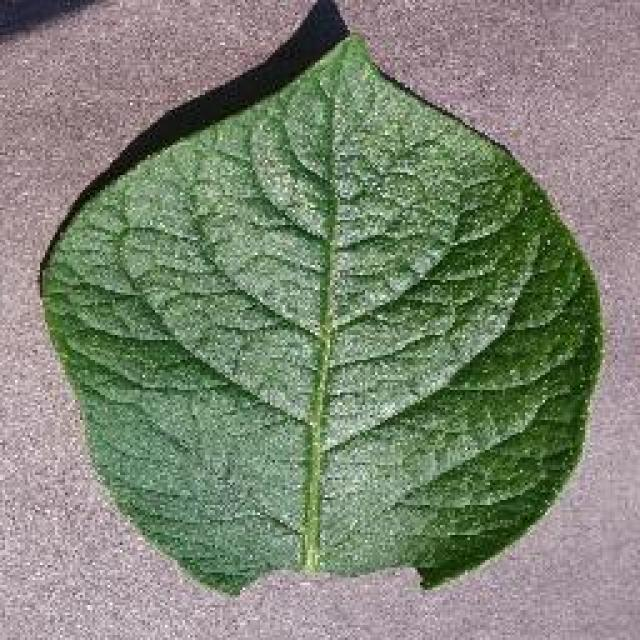healthy: (32, 28, 608, 600)
